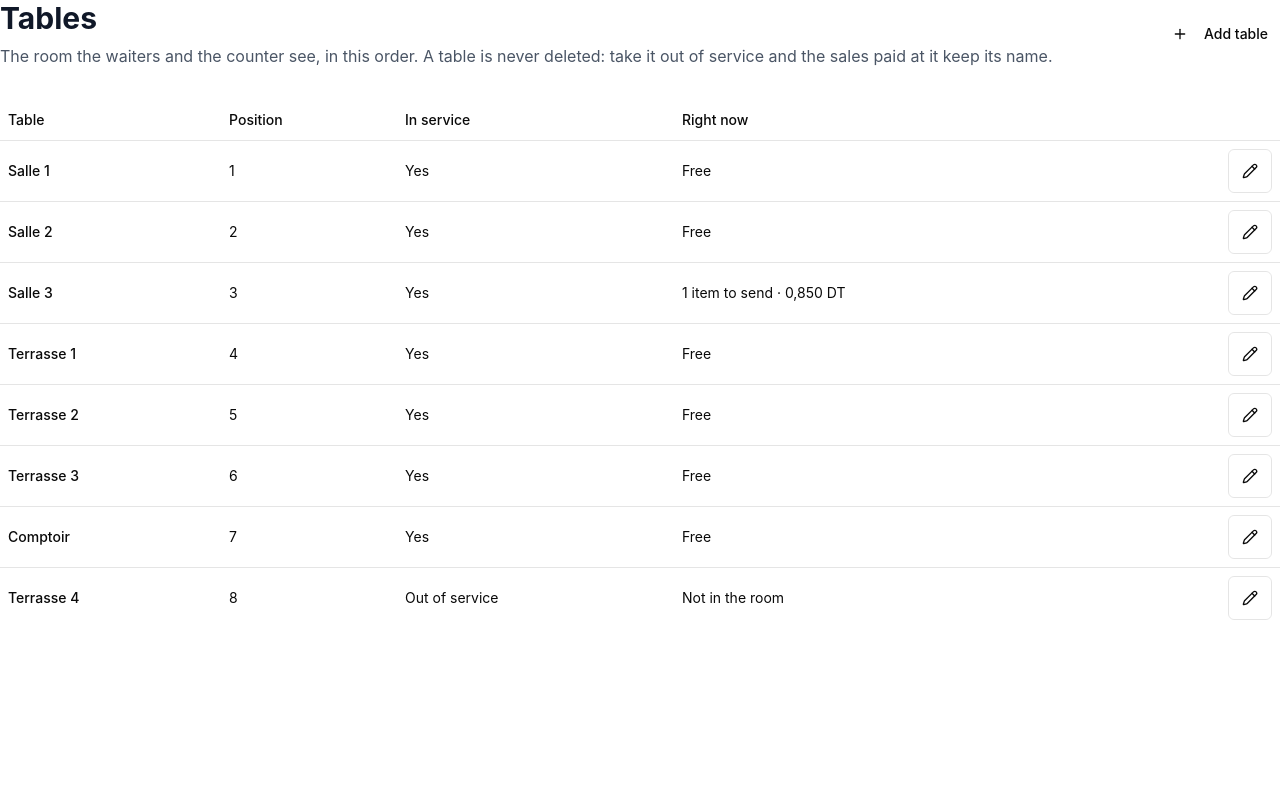
Test: the admin’s tables › keeps a table in service while guests are at it
Expected: the row "Salle 3 3 Yes 1 item to send · 0,850 DT" is shown, left=0, top=262, right=1279, bottom=323
Click the button named "Edit Salle 3" at (1250, 292), box left=1228, top=270, right=1272, bottom=314
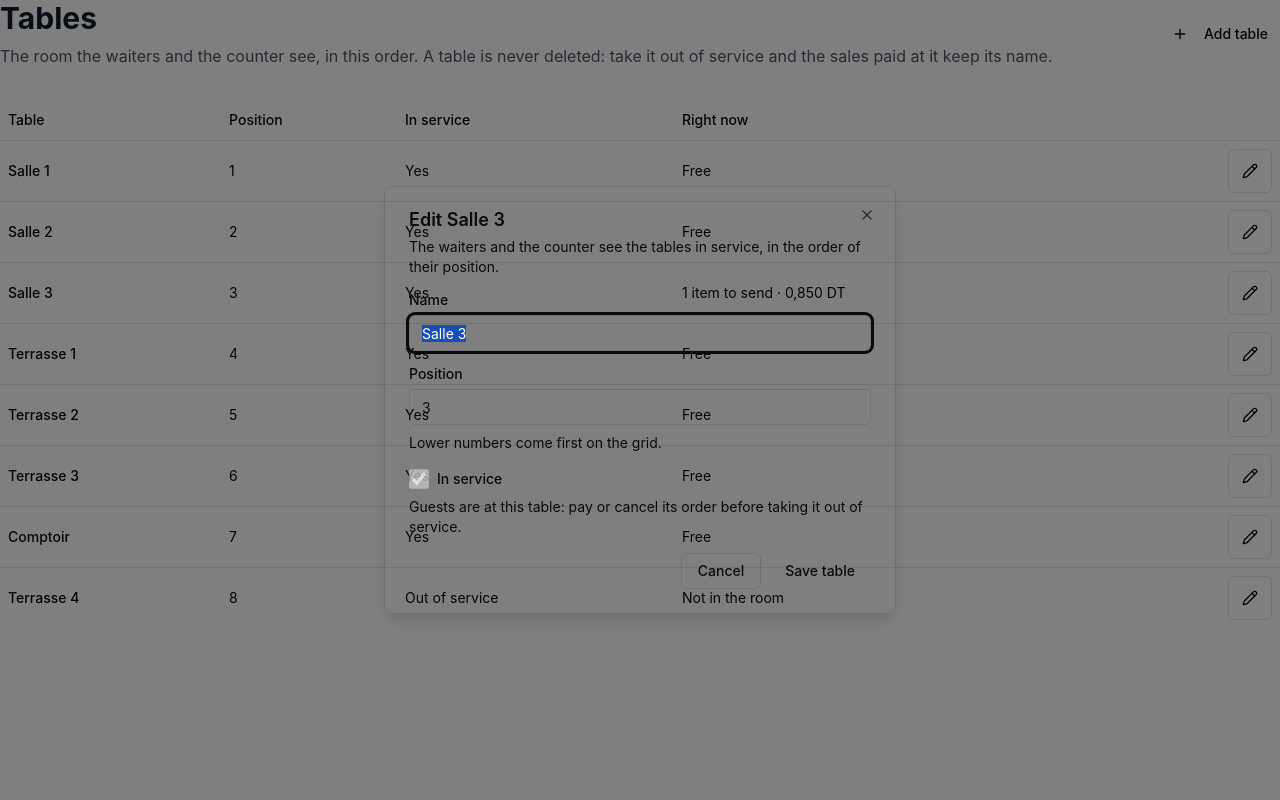
Now the checkbox labelled "In service" is disabled, box left=409, top=469, right=429, bottom=489
Now the text "Guests are at this table: pay or cancel its order before taking it out of service." is shown, box left=409, top=498, right=863, bottom=535
